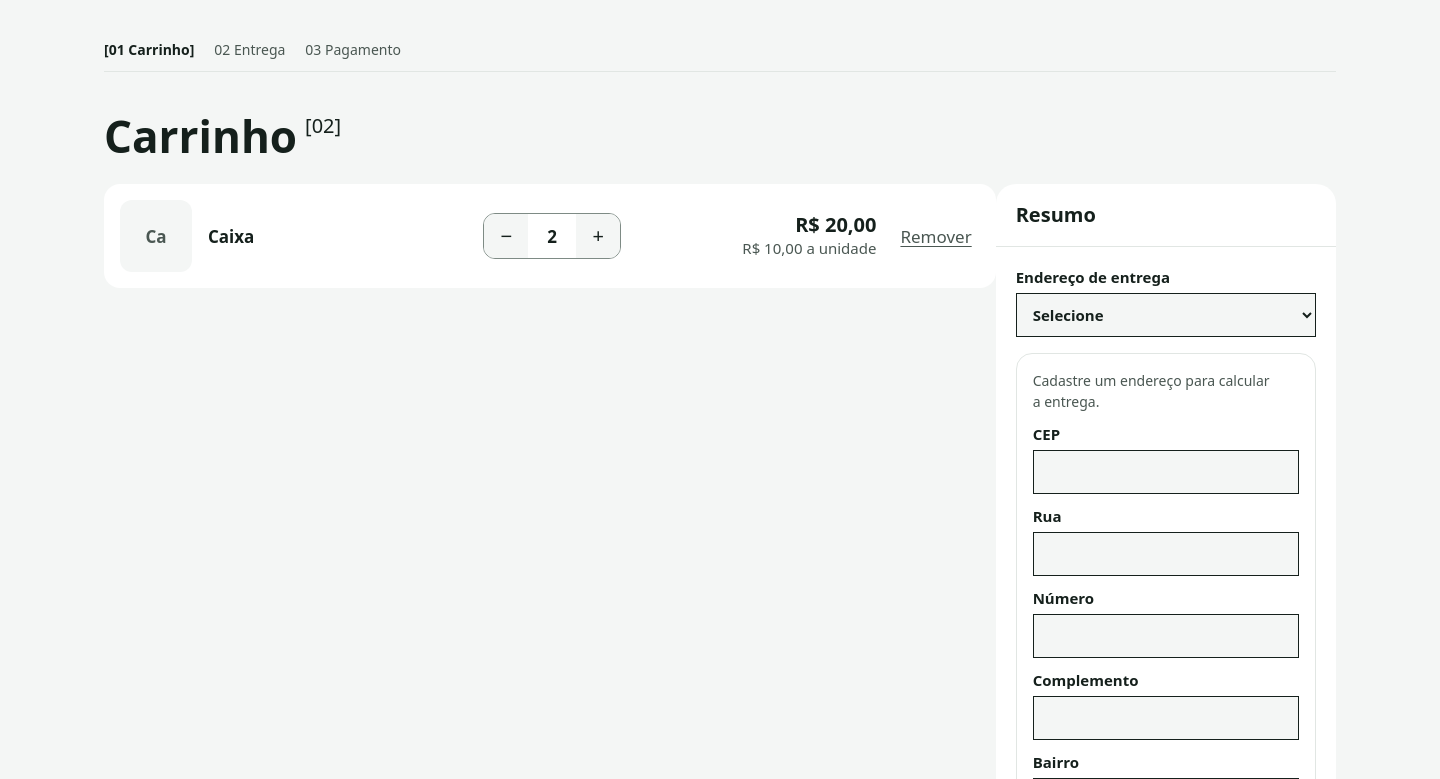
Test: Desfazer no carrinho › mantém a barra com o último item removido, foca Desfazer e readiciona variante e quantidade
Click the button with class "remove": (936, 236) [892,214,980,258]
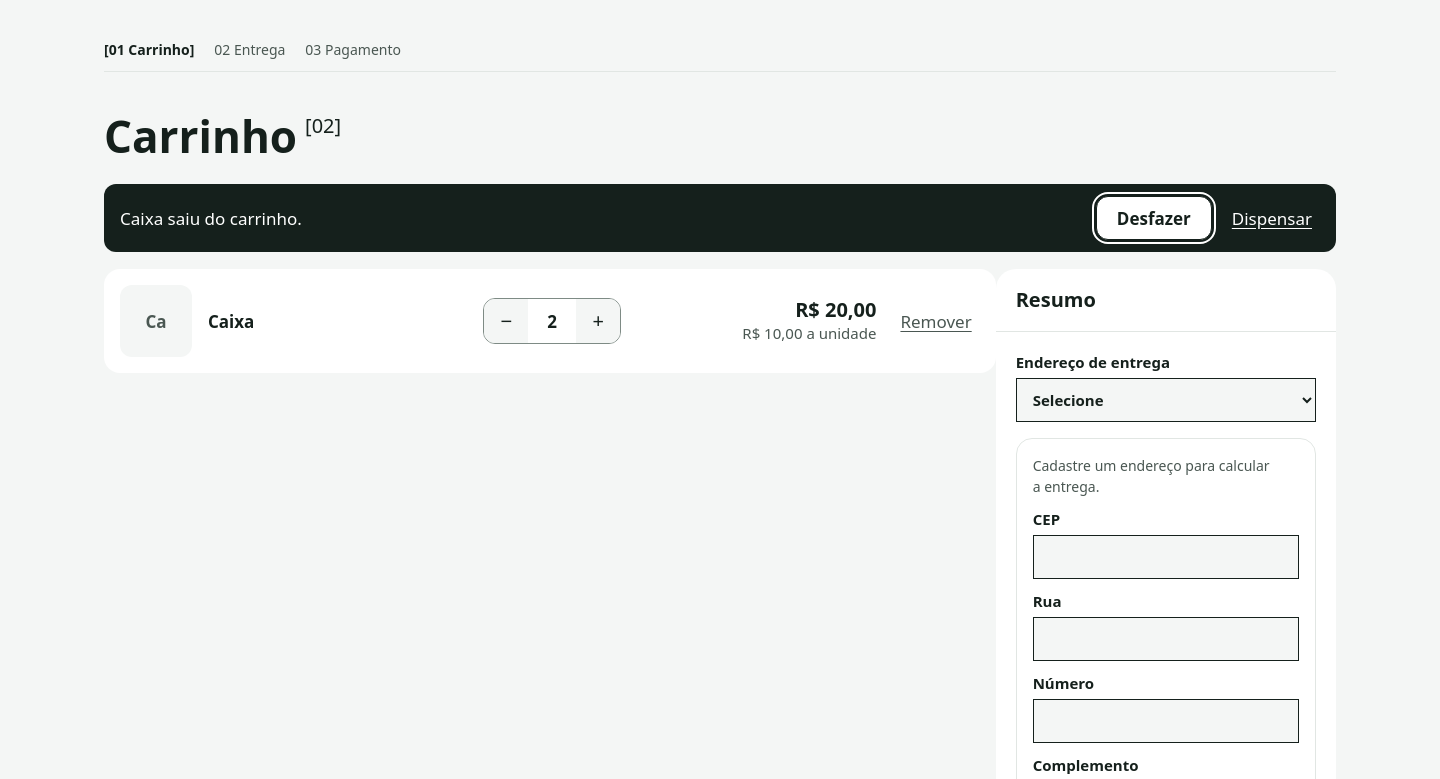
Expected: the element with class "undo-bar" shows "saiu do carrinho", [163,207,302,230]
Click the button "Desfazer": (1154, 218) [1096,196,1212,240]
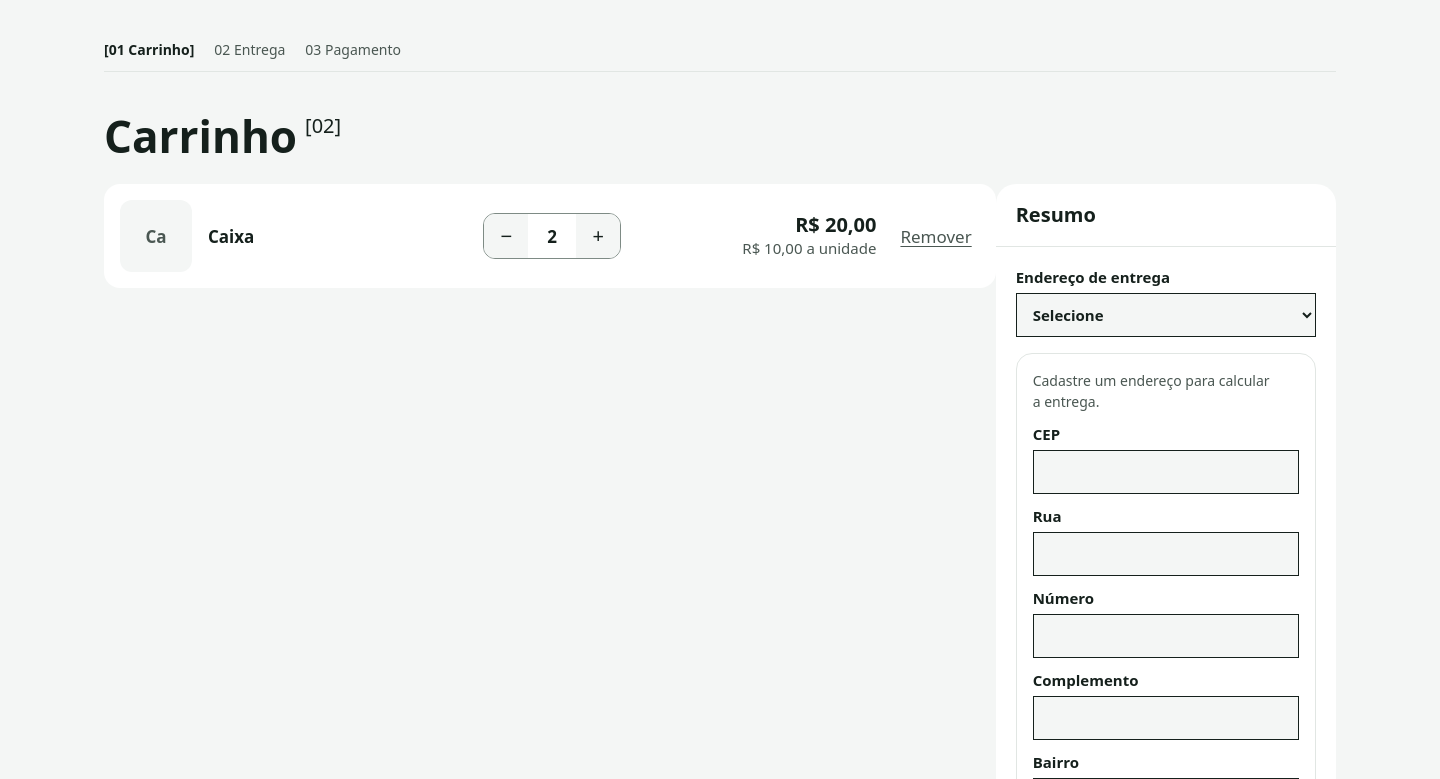
Expected: the element with class "undo-bar" is gone
